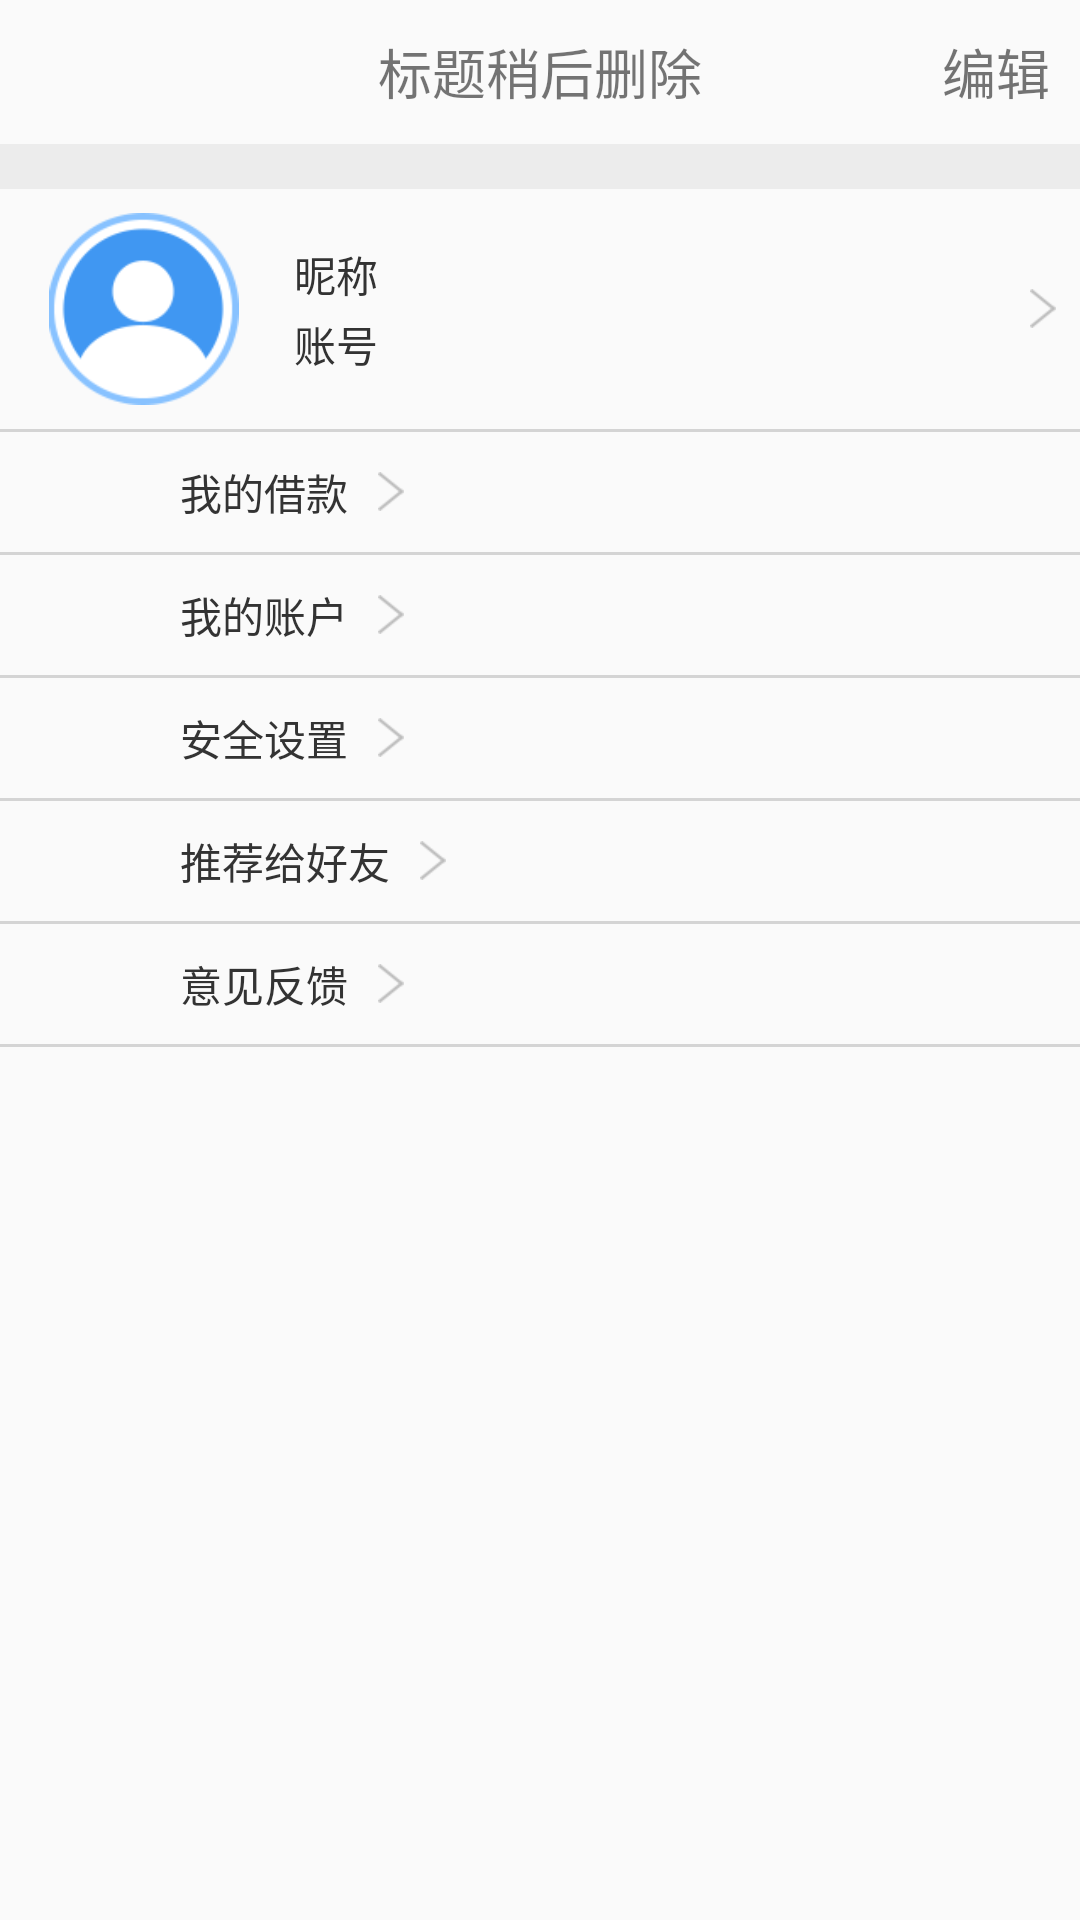

Where icons sit on this 1080×1920 app screen, as (x1, y1, x2, y2):
next: (1030, 289, 1056, 328)
